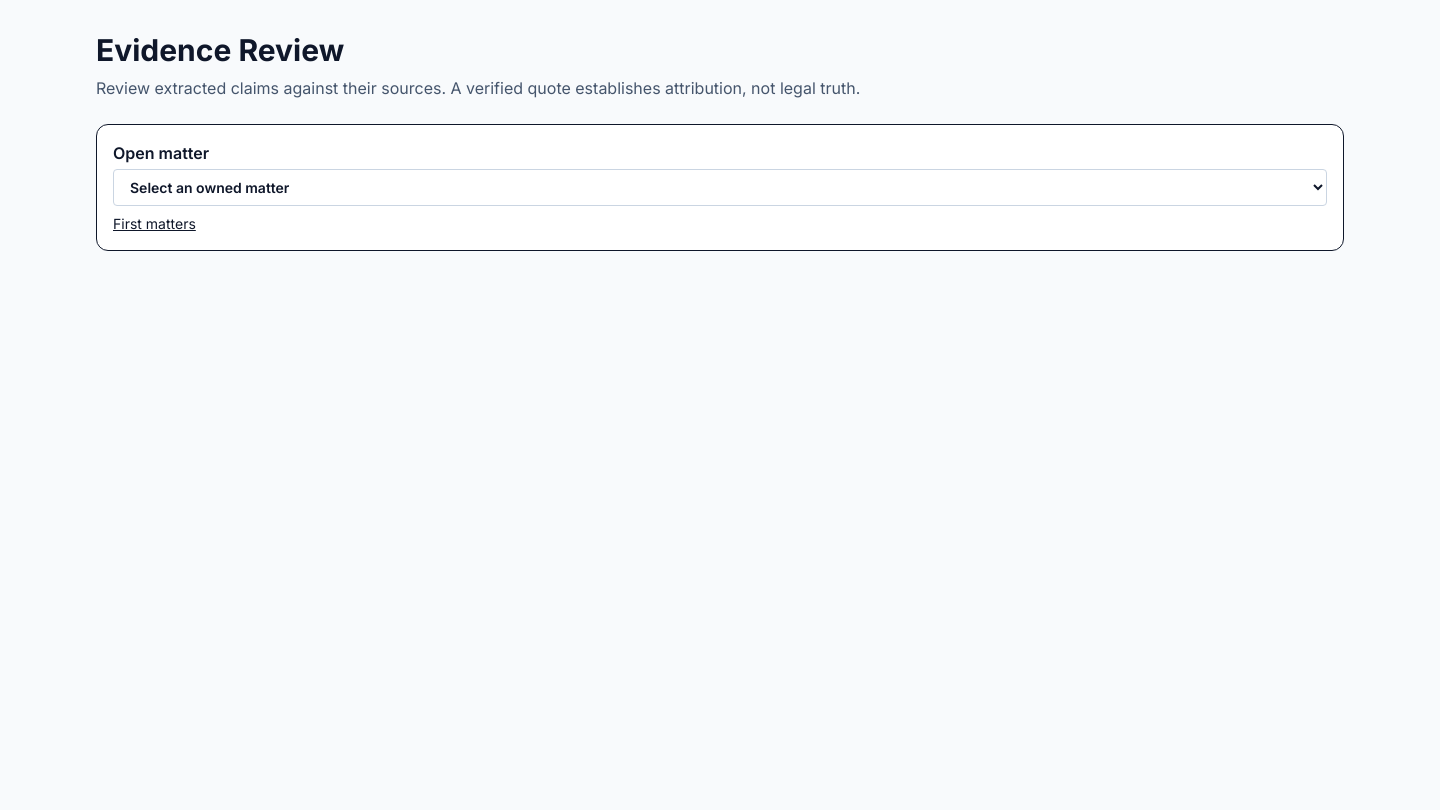
it: Stage 10 slice 5: AccessHistoryPanel inside EvidenceReviewWorkspace › opens with the selected matter id, as a keyboard-operable disclosure with a labelled heading
Step 1. Select "Matter A" in the dropdown labelled "Open matter" → {"x": 720, "y": 188}, box [113,169,1327,206]
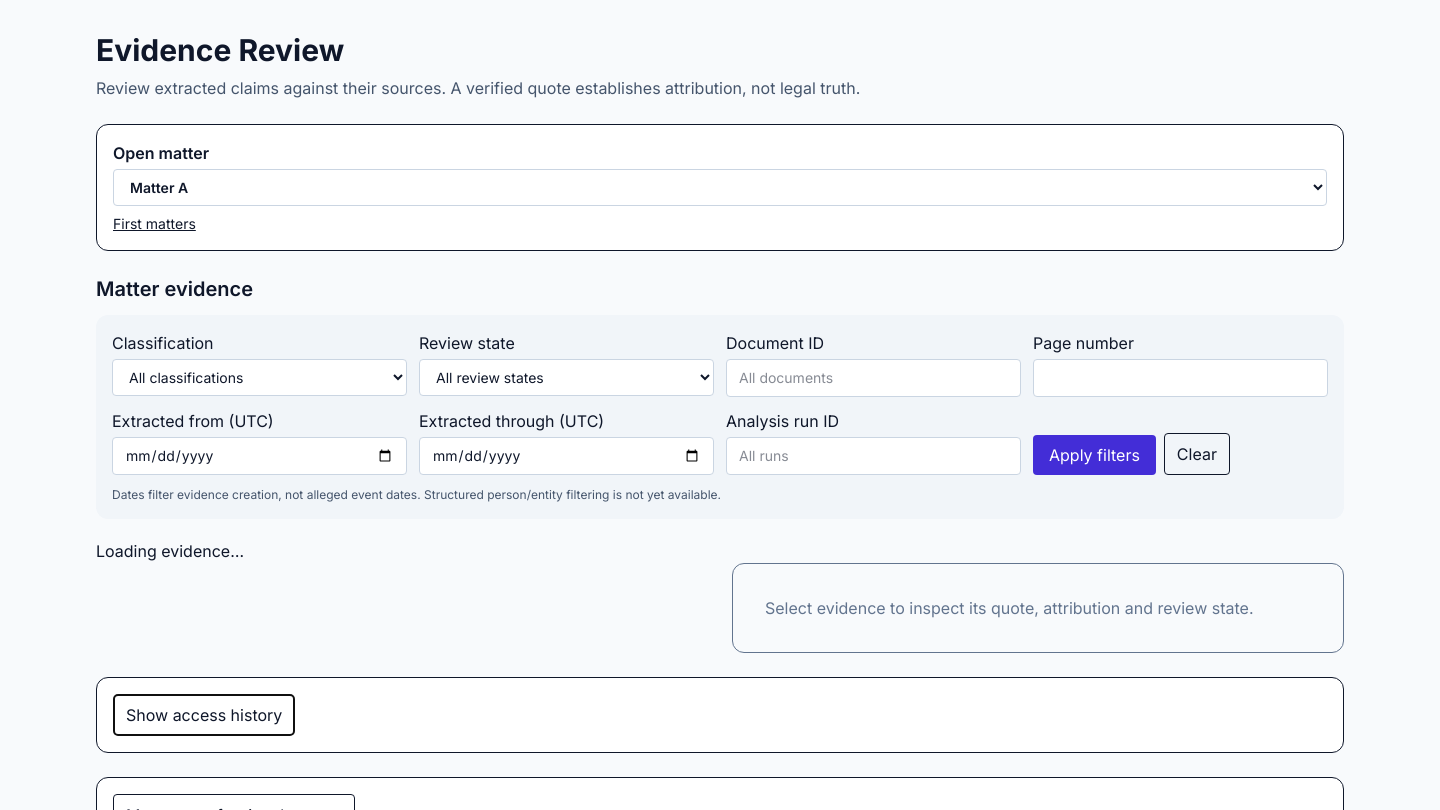
Step 2. Click the button "Show access history" → {"x": 204, "y": 715}, box [113,694,295,736]
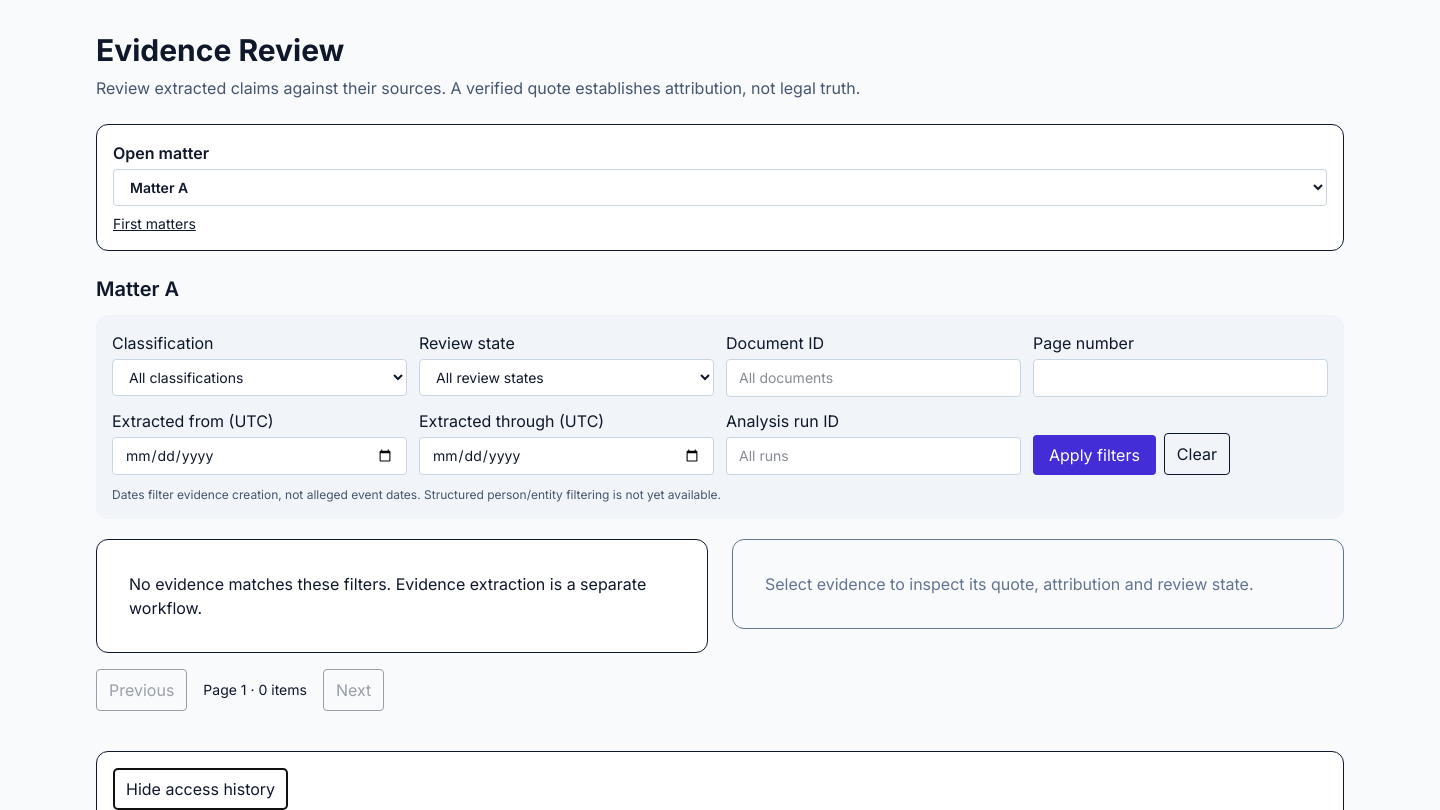
Result: the button "Hide access history" is expanded
Result: the button "Hide access history" is shown
Step 3. Click the button "Hide access history" → {"x": 201, "y": 789}, box [113,768,288,809]
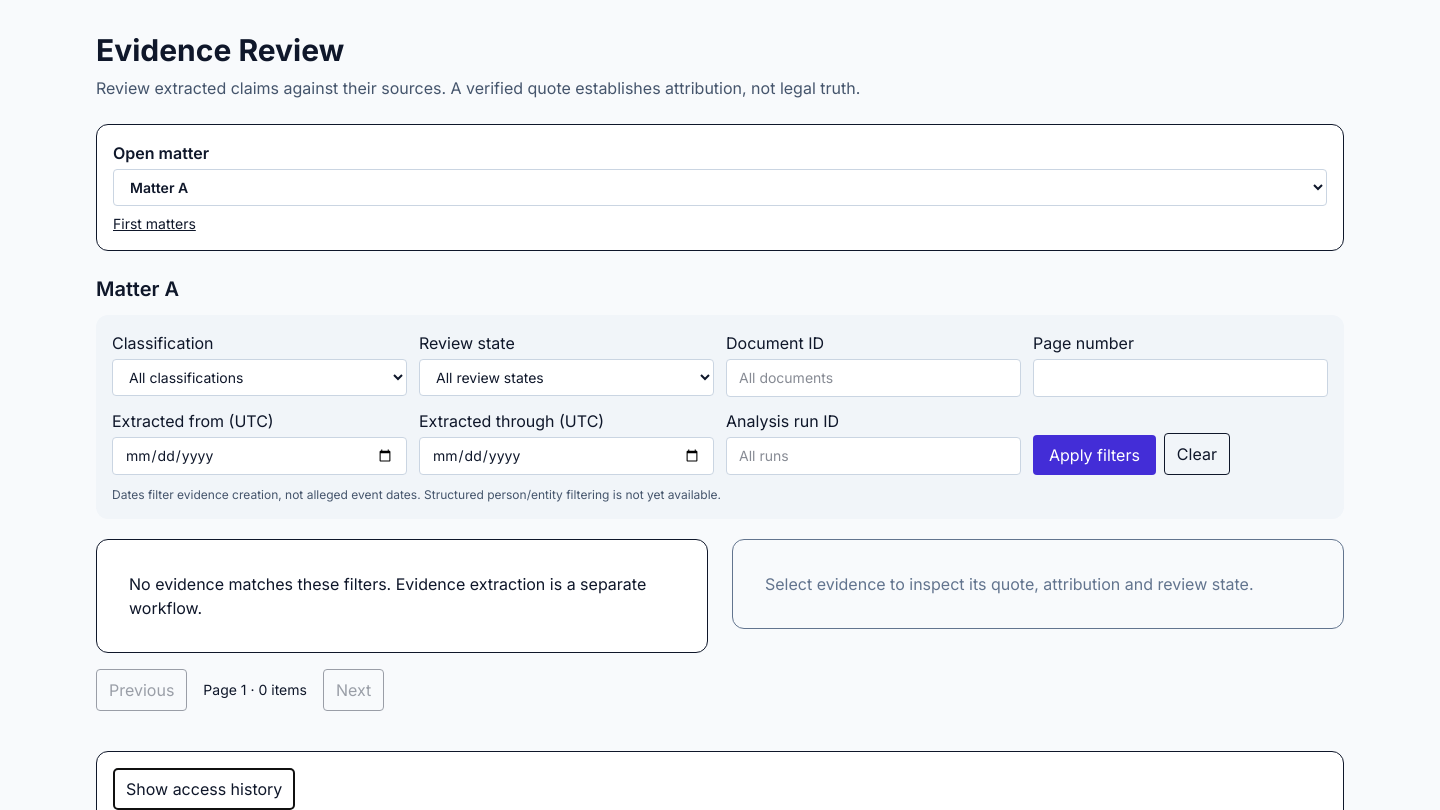
Result: the button "Show access history" is collapsed at [113,768,295,809]
